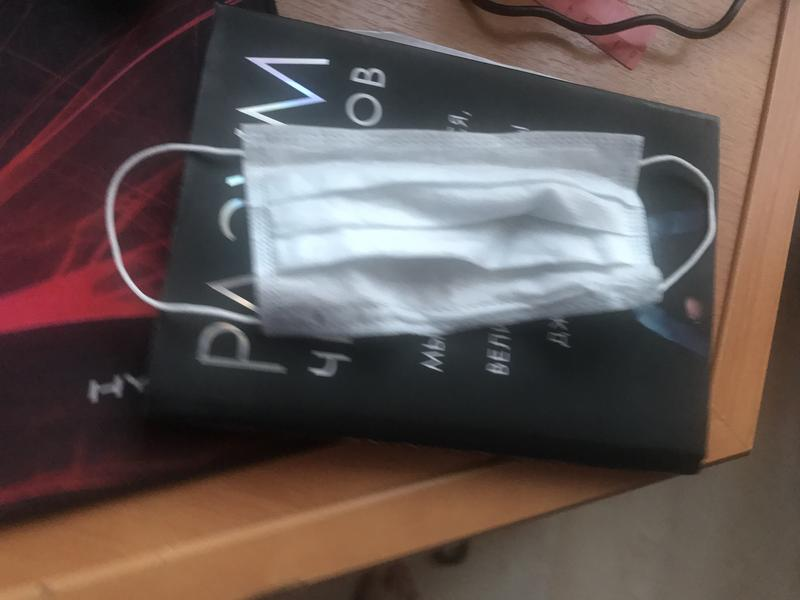medical_mask: (104, 127, 717, 334)
